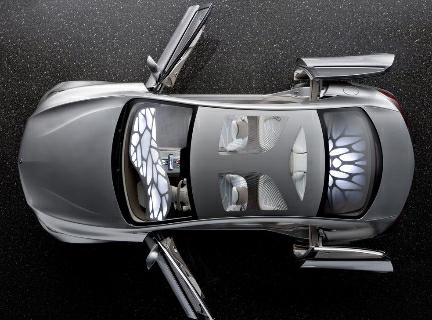奔驰-F800: (19, 76, 417, 247)
